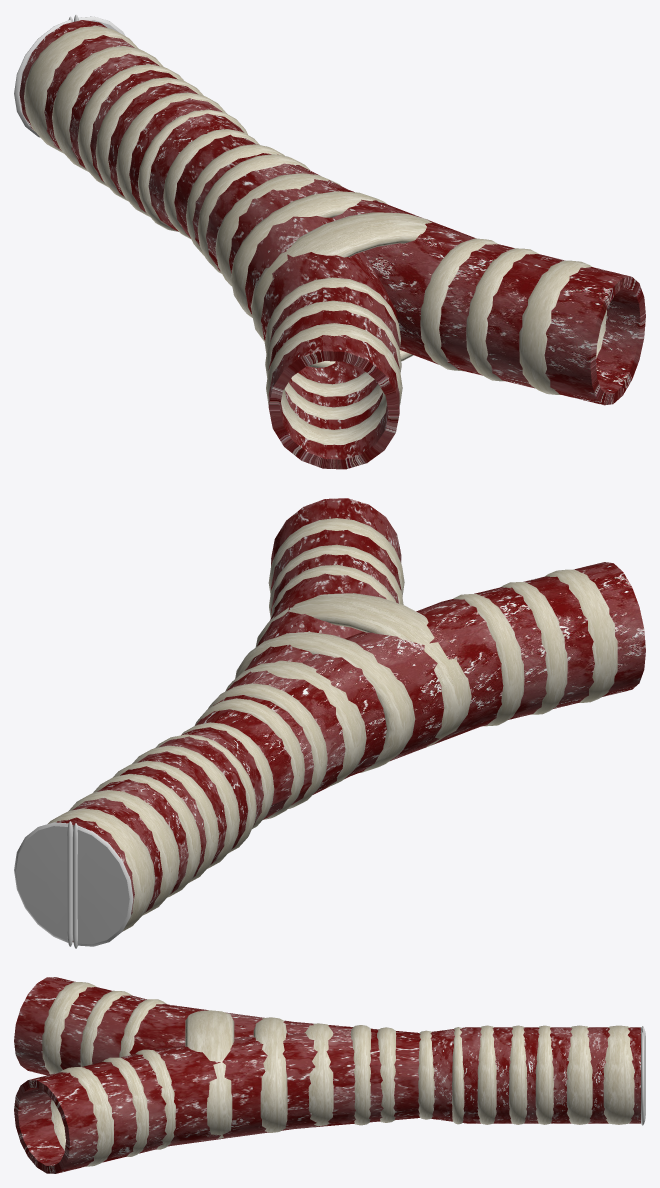
File: TracheaPatient.FBX
The picture shows the model from 3 angles, top to bottom: view 1: azimuth 30°, elevation 25°; view 2: azimuth 150°, elevation 25°; view 3: azimuth 270°, elevation 25°; orthographic projection. The views are drawn at different scales.
Visible parts, largest first — view 1: Cylinder006, Cylinder005, Cylinder002, Torus017, Torus020, Torus023, Torus016, Torus011, Torus022, Torus019, Torus018, Torus021 (+10 smaller); view 2: Cylinder005, Cylinder006, Cylinder002, Torus017, Capsule001, Capsule002, Torus016, Torus023, Torus015, Torus021, Torus011, Torus022 (+11 smaller); view 3: Cylinder006, Cylinder002, Cylinder005, Torus017, Torus016, Torus011, Torus010, Torus020, Torus015, Torus023, Torus006, Torus014 (+10 smaller).
Part boxes in pixels (x1,y1,x2,y2): Cylinder006: (233,136,645,405); Cylinder005: (174,134,399,469); Cylinder002: (19,20,244,231); Torus017: (251,212,431,367); Torus020: (519,260,606,394); Torus023: (266,323,402,444); Torus016: (231,191,387,317); Torus011: (24,26,138,153); Torus022: (265,300,401,419); Torus019: (466,248,538,381); Torus018: (420,238,498,371); Torus021: (264,277,400,396); Cylinder005: (215,562,645,819); Cylinder006: (195,498,401,725); Cylinder002: (56,727,263,941); Torus017: (255,593,471,746); Capsule001: (72,823,133,948); Capsule002: (14,821,73,946); Torus016: (235,632,415,772); Torus023: (545,569,617,702); Torus015: (225,660,366,787); Torus021: (453,594,524,726); Torus011: (48,808,155,931); Torus022: (501,582,567,714); Cylinder006: (14,1033,419,1173); Cylinder002: (430,1027,640,1123); Cylinder005: (14,977,420,1075); Torus017: (185,1010,234,1138); Torus016: (253,1017,287,1132); Torus011: (603,1025,634,1124); Torus010: (566,1025,592,1124); Torus020: (50,1067,113,1166); Torus015: (304,1023,333,1126); Torus023: (42,982,96,1074); Torus006: (477,1025,496,1124); Torus014: (350,1025,371,1125).
Size of the model in its own units: 11.91 by 4.29 by 23.23.
2 materials, 2 textured.
